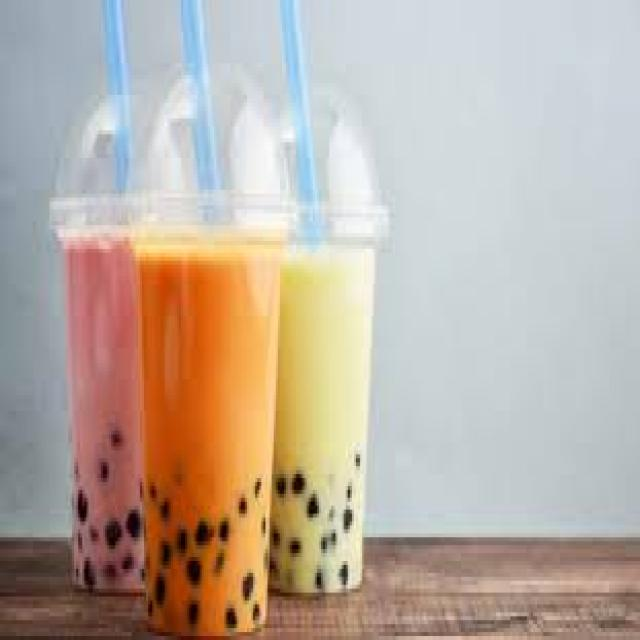bottle: (137, 242, 281, 632), (270, 250, 375, 592), (57, 199, 145, 592)
